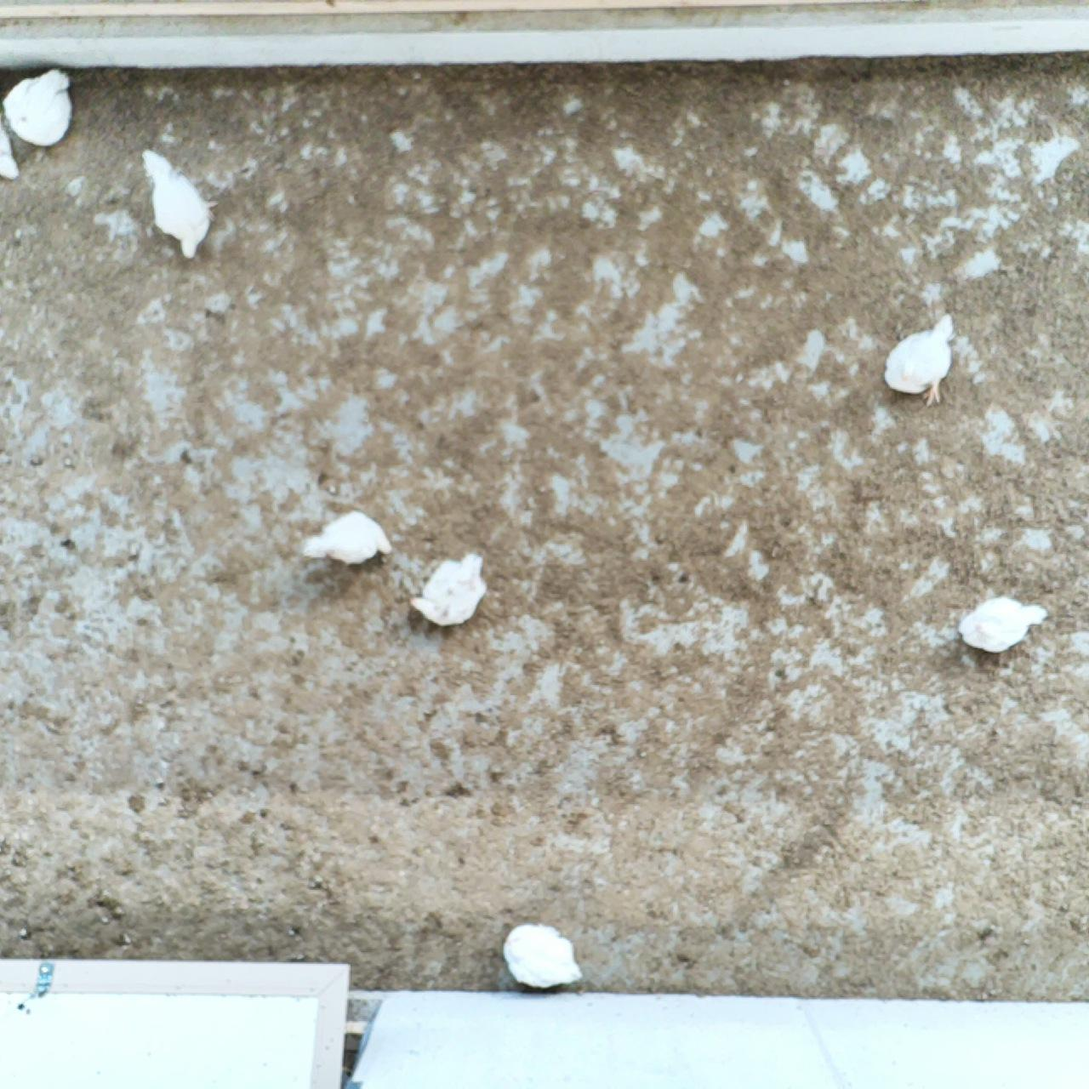chicken: (135, 146, 216, 261), (878, 314, 966, 408), (955, 588, 1051, 661), (295, 503, 397, 571), (410, 549, 496, 629), (499, 921, 586, 993), (0, 68, 77, 146), (0, 116, 20, 181)
